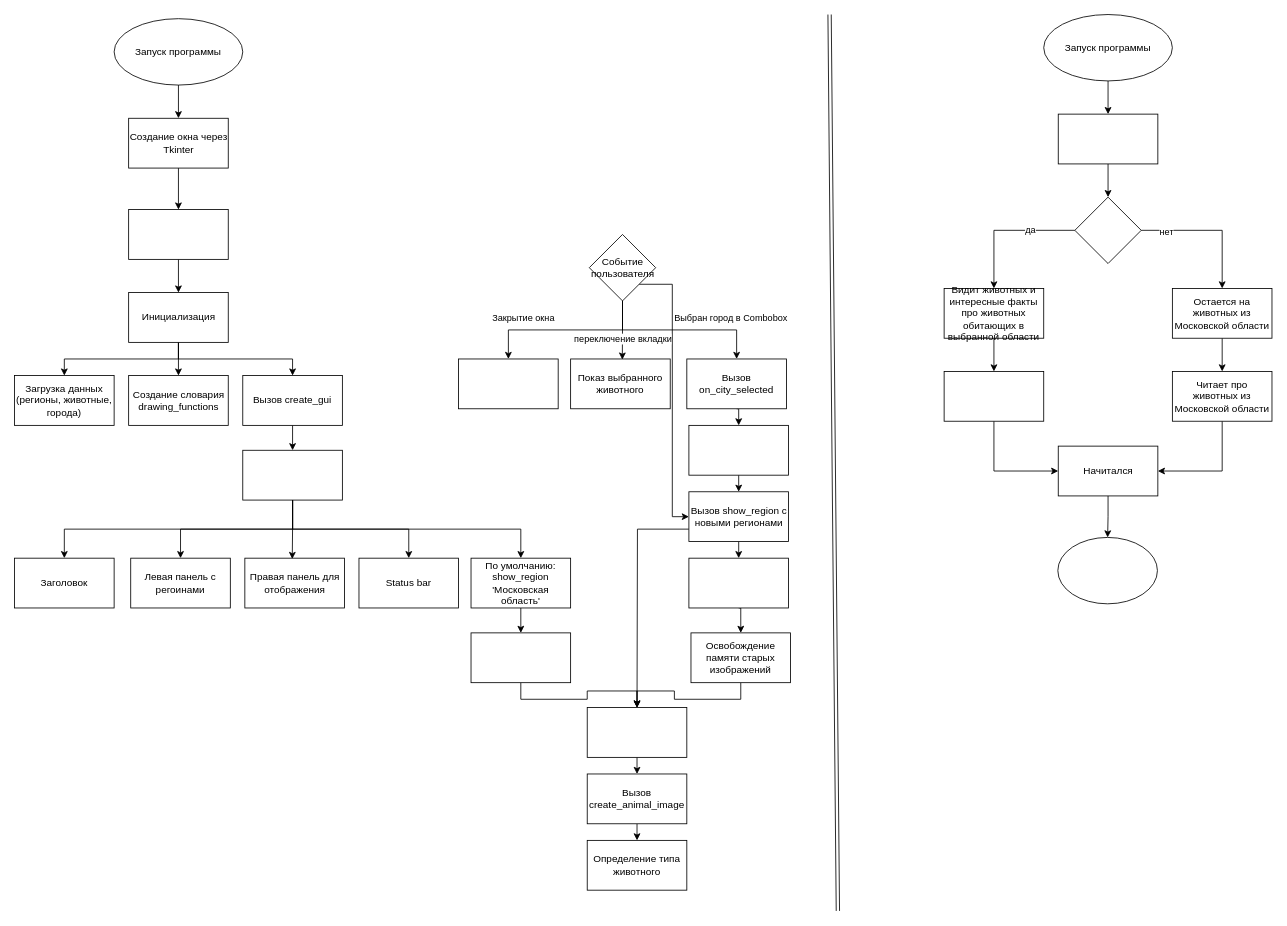
Some shapes in this 1287 by 926 pixel diagram are drawn without their labels. Each missing label, with the centre of its shape:
"Выбрал ли регион" goes at point (1107, 230).
"Для каждого животного в регионе" goes at point (636, 732).
"Завершение программы" goes at point (508, 383).
"Конец" goes at point (1107, 570).
"Очистка предыдущих данных" goes at point (738, 582).
"Поиск региона по городу" goes at point (738, 450).
"Показать регион" goes at point (520, 657).
"Пользователь видит выбор из регионов" goes at point (1107, 138).
"Построение интерфейса" goes at point (292, 474).
"Создание экземпляра AnimalApp" goes at point (178, 234).
"Читает про животных из другой выбранной области" goes at point (993, 396).
